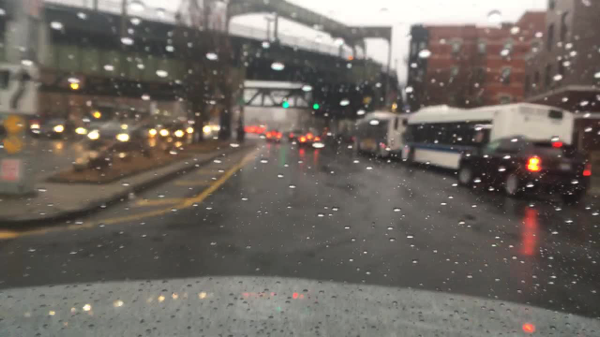bus: (401, 101, 573, 174), (353, 110, 406, 159)
car: (458, 137, 590, 202), (89, 121, 139, 151), (33, 118, 72, 140), (300, 132, 322, 149), (148, 124, 165, 143), (167, 124, 183, 143), (266, 130, 280, 145), (286, 131, 300, 146), (206, 124, 217, 136)
traffic light: (71, 79, 80, 92), (312, 100, 319, 114), (283, 99, 288, 112)
